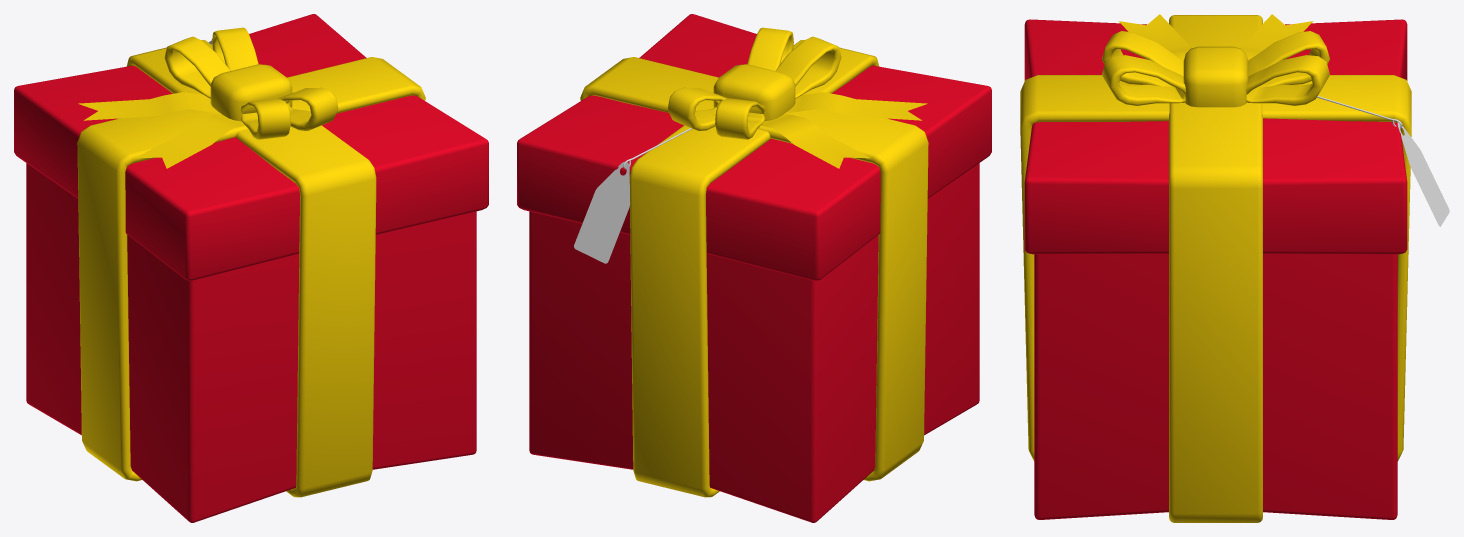
The model's file is SM_GiftBox_01.glb.
3 views of the same model, side by side, from view 1: azimuth 30°, elevation 25°; view 2: azimuth 150°, elevation 25°; view 3: azimuth 270°, elevation 25° (orthographic). The views are drawn at different scales.
Visible parts, largest first — view 1: SM_GiftBox_01; view 2: SM_GiftBox_01; view 3: SM_GiftBox_01.
Boxes of the visible parts, box(x1,y1,x2,y2) form: SM_GiftBox_01: box(14, 14, 488, 522); SM_GiftBox_01: box(517, 14, 991, 522); SM_GiftBox_01: box(1020, 14, 1449, 522).
Size of the model in its own units: 1.02 by 1.15 by 1.12.
